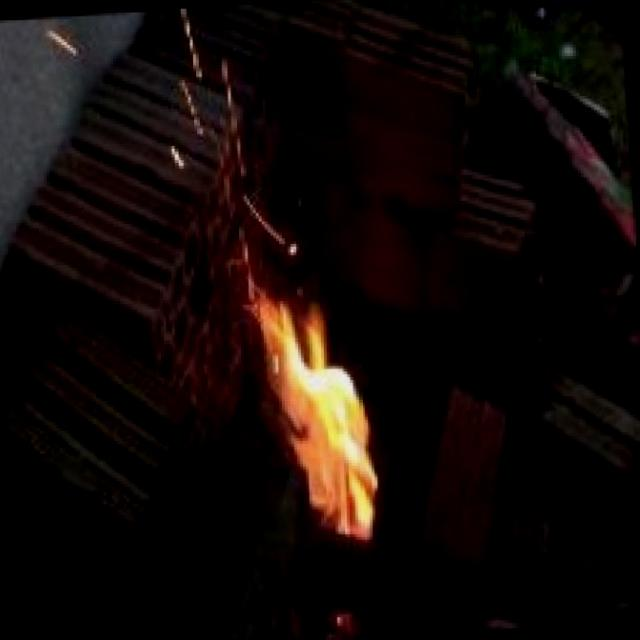fire: (169, 20, 410, 561)
